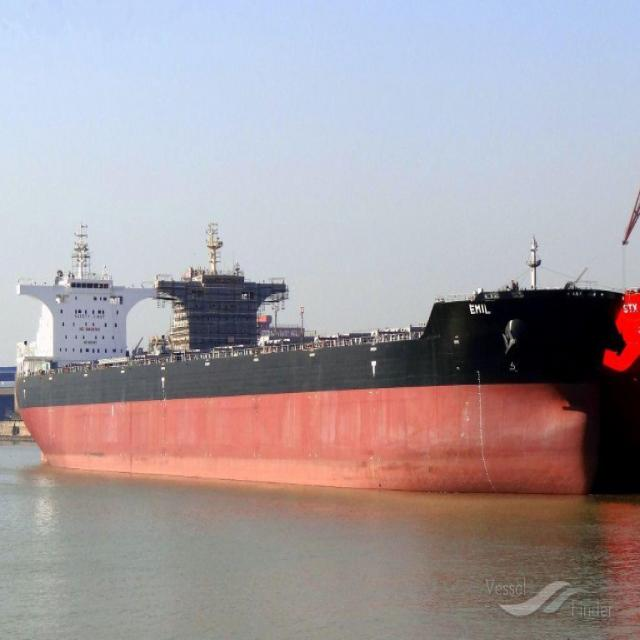OCR: (464, 298, 495, 318)
